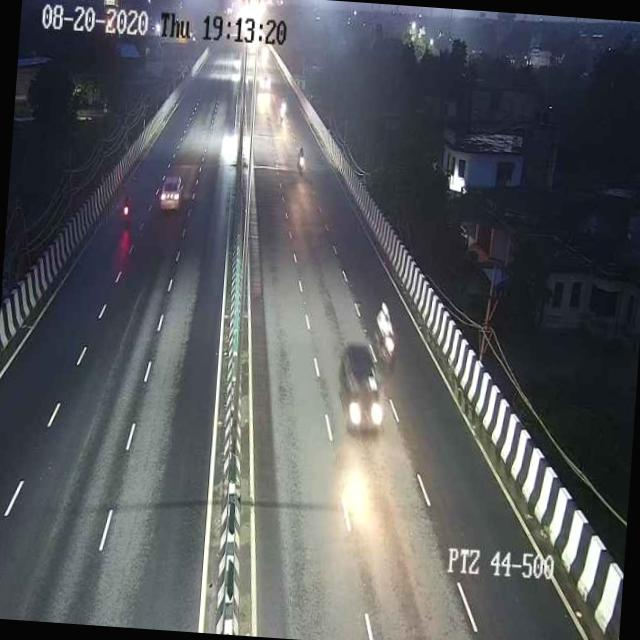car: (332, 334, 389, 436), (154, 170, 187, 216)
